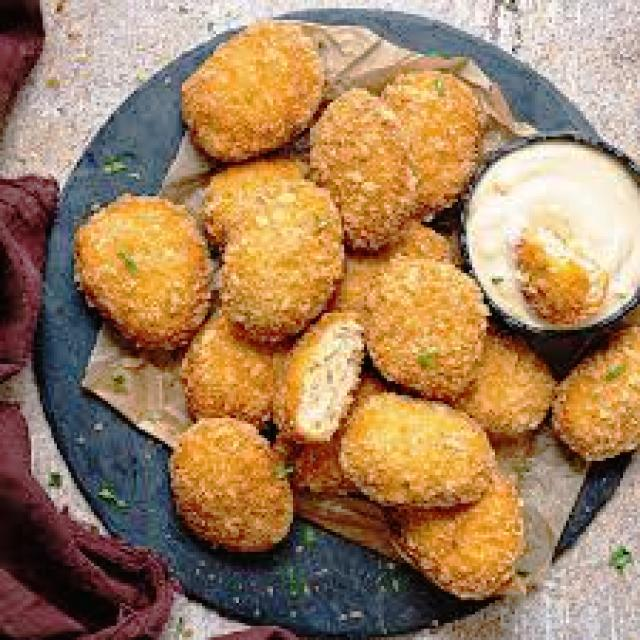Fried Rice: (68, 17, 637, 603)
chicken_nuggets: (74, 196, 212, 353), (180, 20, 325, 156), (314, 80, 419, 258), (221, 184, 342, 336), (348, 392, 504, 508), (172, 412, 293, 554), (364, 258, 488, 388)
fried_eggs: (461, 134, 637, 332)
